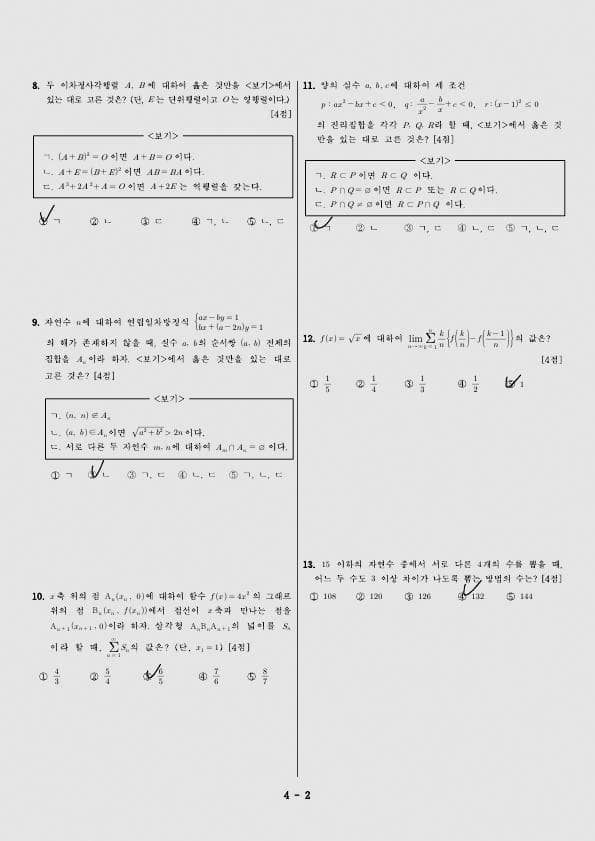question: (20, 305, 296, 491), (21, 73, 298, 243), (301, 76, 575, 247), (26, 584, 297, 694), (297, 322, 568, 401), (296, 549, 569, 617)
